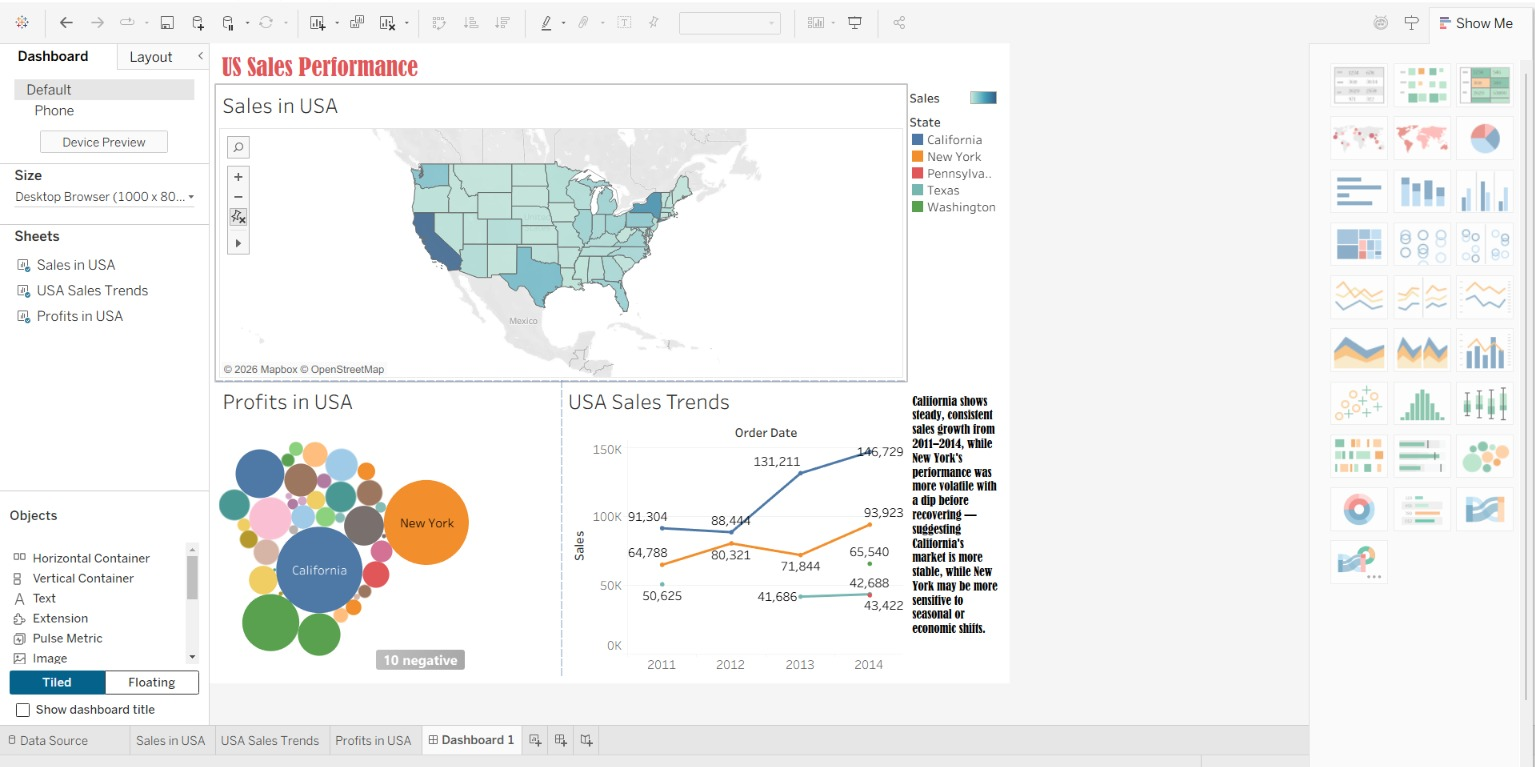

The page's visual inventory and layout, read from the dashboard file:
{"tool":"tableau","page":{"name":"Dashboard 1","canvas":[1000,800],"ordinal":0},"visuals":[{"type":"worksheet","title":"Sales in USA","mark":"Automatic","box":[8,8,824,392]},{"type":"legend","title":"Sales in USA","param":"[federated.0a7wplo1gz9s0h17gk57512ay7ny].[sum:Sales:qk]","box":[832,8,160,73]},{"type":"legend","title":"USA Sales Trends","param":"[federated.0a7wplo1gz9s0h17gk57512ay7ny].[none:State:nk]","box":[832,81,160,135]},{"type":"worksheet","title":"Profits in USA","mark":"Circle","box":[8,400,412,392]},{"type":"worksheet","title":"USA Sales Trends","mark":"Automatic","rows":["Sales"],"cols":["Order Date"],"box":[420,400,412,392]}]}

Visuals, with their boxes on the page's 1000x800 design canvas (x1, y1, x2, y2). These are canvas units, not pixel positions in the 1535x767 screenshot, which may show the page scaled, cropped or inside an application window:
"Sales in USA" worksheet: select_region(8, 8, 832, 400)
"Sales in USA" legend: select_region(832, 8, 992, 81)
"USA Sales Trends" legend: select_region(832, 81, 992, 216)
"Profits in USA" worksheet (Circle marks): select_region(8, 400, 420, 792)
"USA Sales Trends" worksheet: select_region(420, 400, 832, 792)
